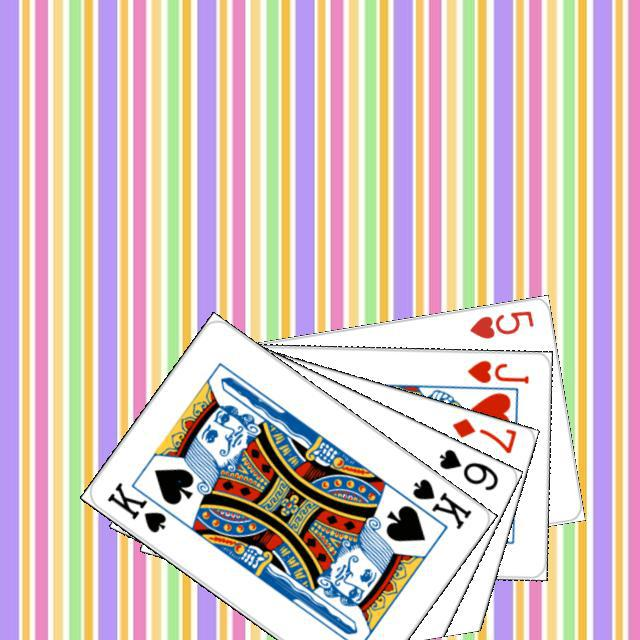5h: (464, 305, 536, 341)
6s: (434, 444, 501, 493)
7d: (447, 413, 518, 455)
Jh: (462, 355, 531, 385)
Ks: (102, 477, 180, 535), (407, 473, 473, 532)
